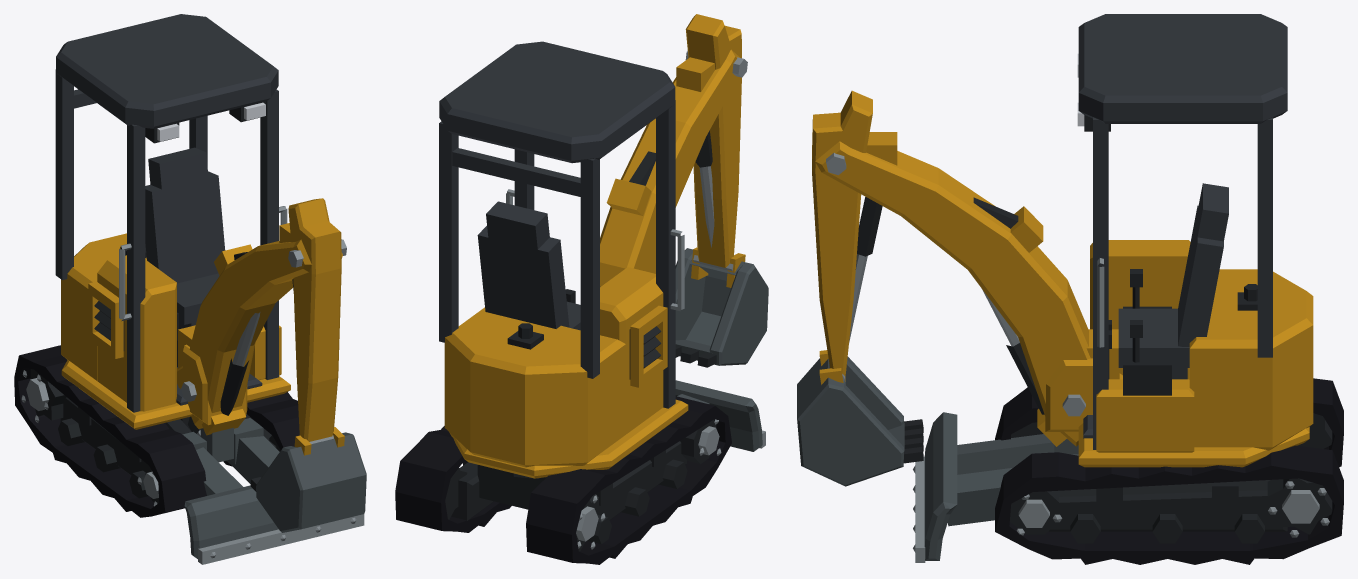
Rendered from mini-excavator.glb.
3 renders of one model, left to right at view 1: azimuth 30°, elevation 25°; view 2: azimuth 150°, elevation 25°; view 3: azimuth 270°, elevation 25°, orthographic. The views are drawn at different scales.
Visible parts, largest first — view 1: undercarriage; view 2: undercarriage; view 3: undercarriage.
Part boxes in pixels (x1,y1,x2,y2): undercarriage: [14, 14, 366, 564]; undercarriage: [395, 14, 768, 564]; undercarriage: [797, 14, 1343, 564].
Bounding box in the file's own units: 1.01 × 2.3 × 2.46.
